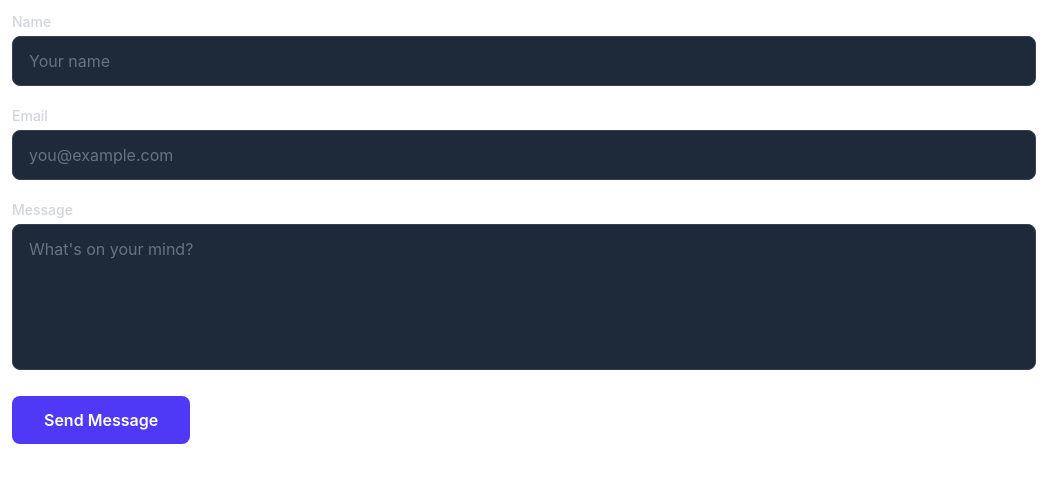
it: ContactForm › shows success message and resets fields after successful submit
Type "Jane Doe" into the field labelled "Name" at [524, 61], box [12,36,1036,86]
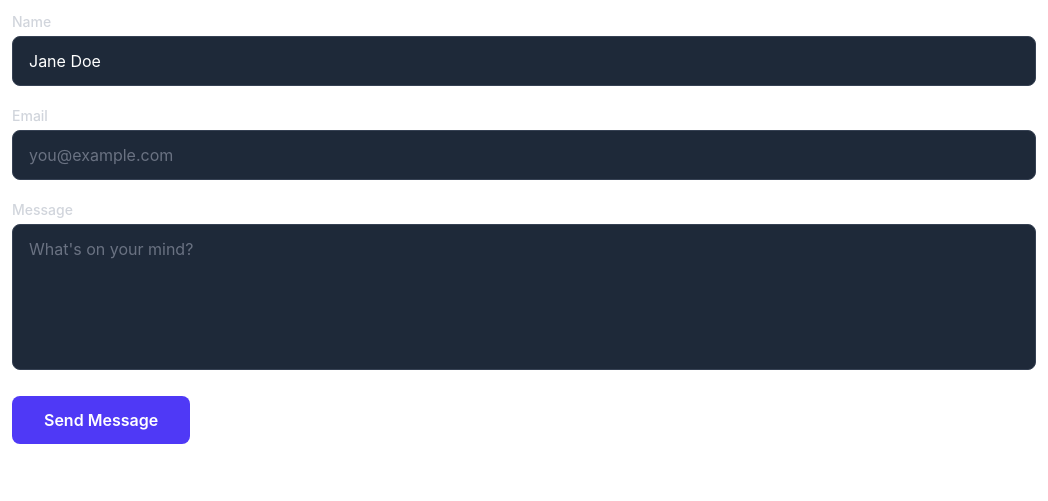
Type "jane@example.com" into the field labelled "Email" at [524, 155], box [12,130,1036,180]
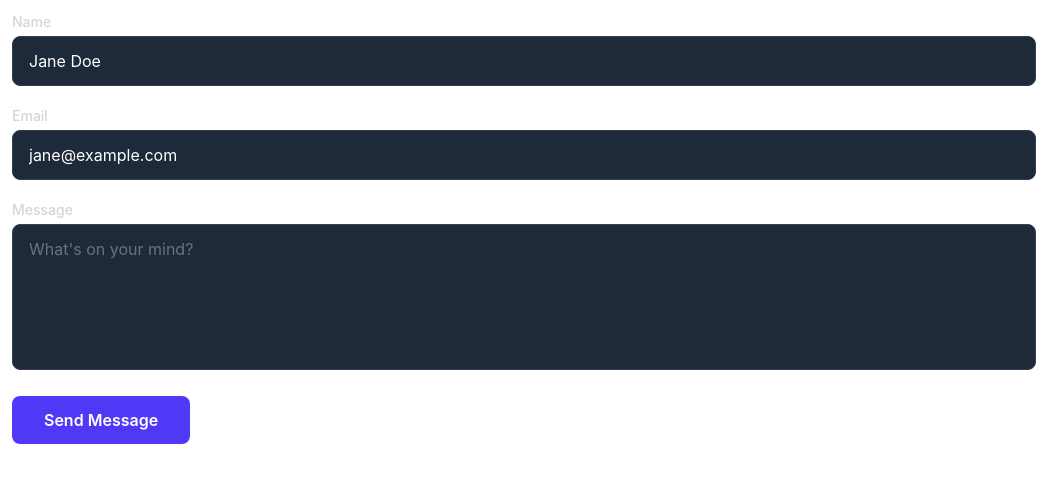
Type "Hello there!" into the text box labelled "Message" at [524, 297], box [12,224,1036,370]
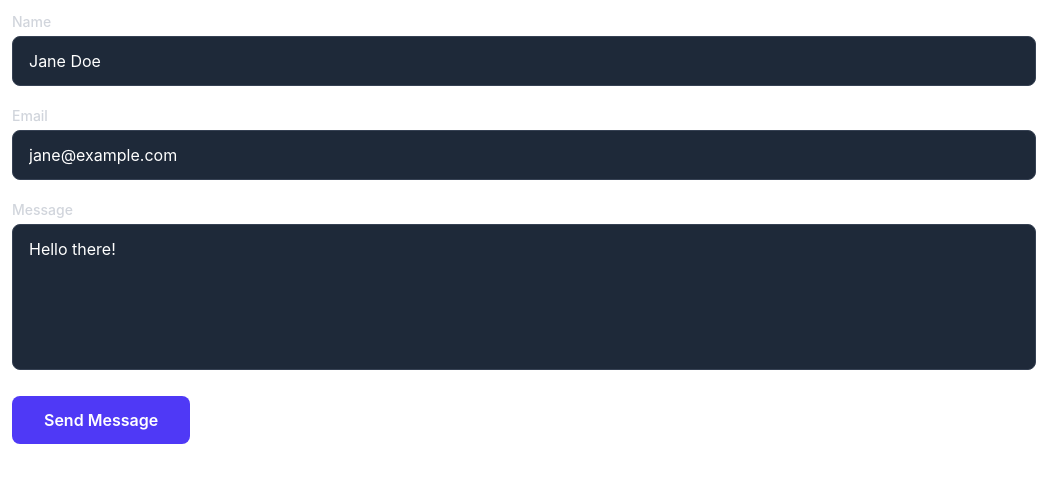
Click the button "Send Message" at [101, 420], box [12,396,190,444]
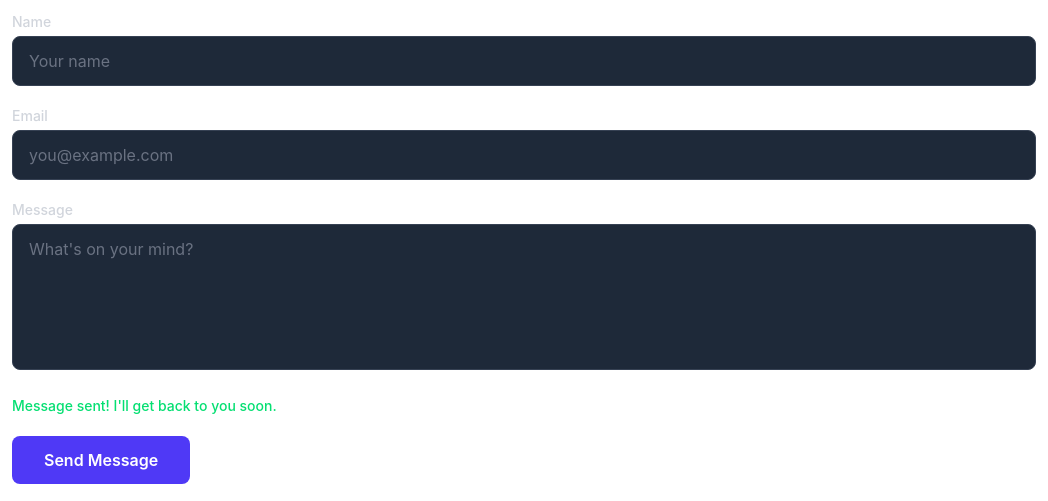
Expected: the message shows "Message sent", [12,397,277,414]
Expected: the field labelled "Name" is empty, [12,36,1036,86]
Expected: the field labelled "Email" is empty, [12,130,1036,180]
